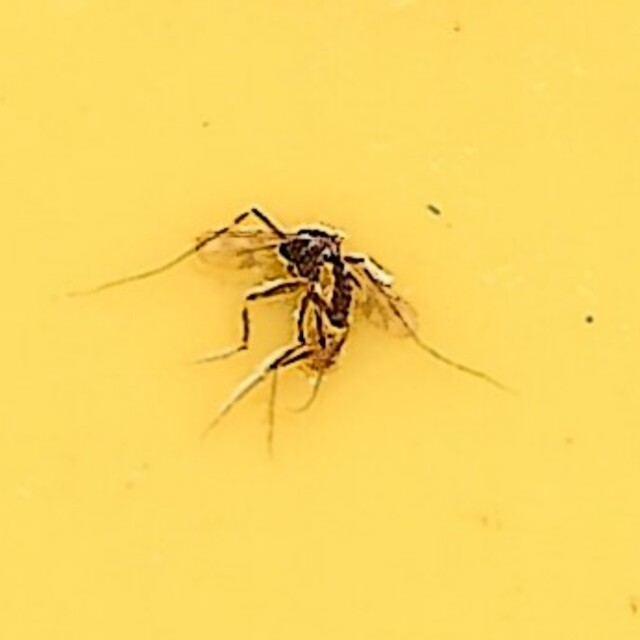Nematocera: (185, 190, 455, 450)
